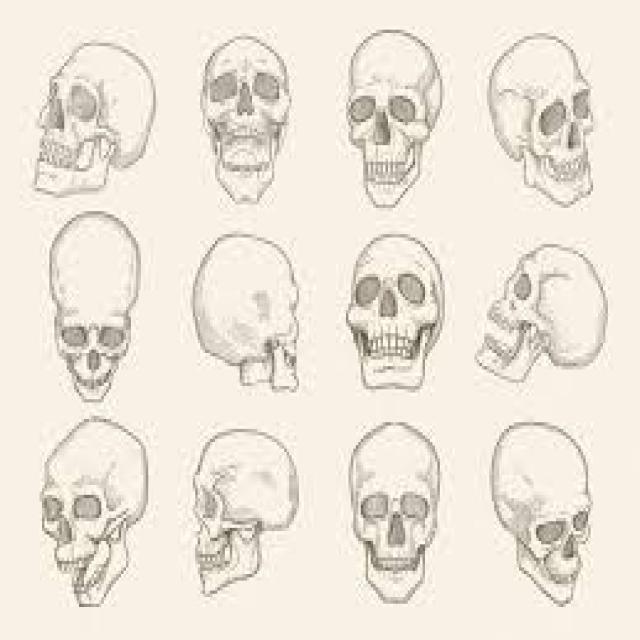skull: (33, 411, 168, 614), (346, 233, 452, 401)
